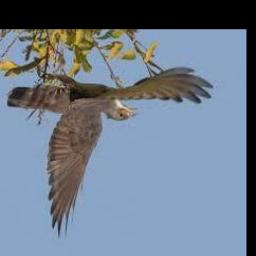Cuckoo: (6, 69, 213, 240)
